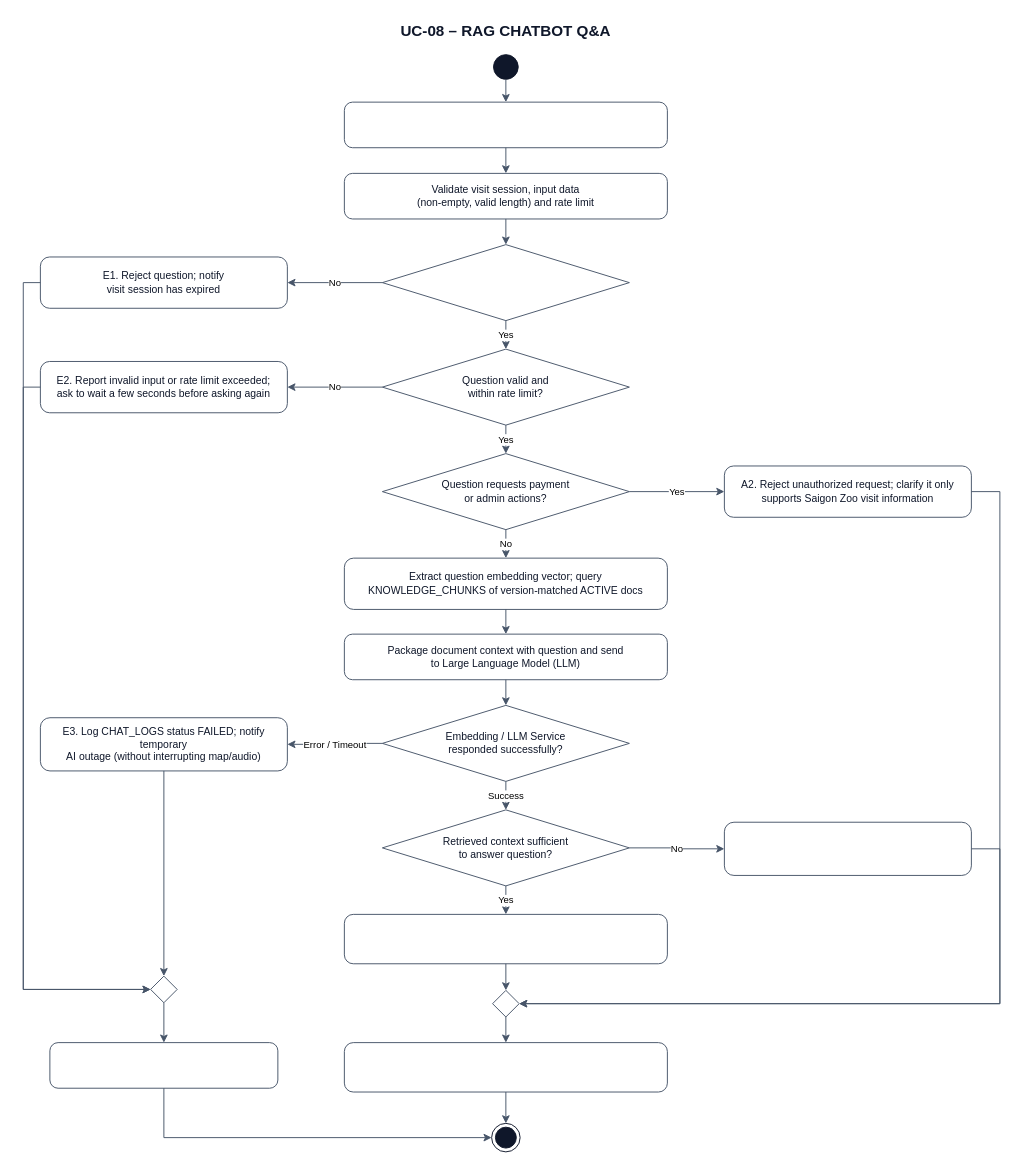
This 1024x1169 diagram has some shape labels left out. Each missing label, with the centre of its shape:
"A1. Politely reply knowledge base lacks official info; record status NO_CONTEXT" belongs at (847,848).
"Display response and save to CHAT_LOGS (no secrets or raw tokens stored)" belongs at (505,1067).
"Generate answer in question's language with source citations; status SUCCESS" belongs at (505,938).
"Question answering incomplete" belongs at (163,1065).
"Visit session still valid?" belongs at (505,282).
"Visitor opens chatbot window, enters natural-language question and clicks Send" belongs at (505,124).
